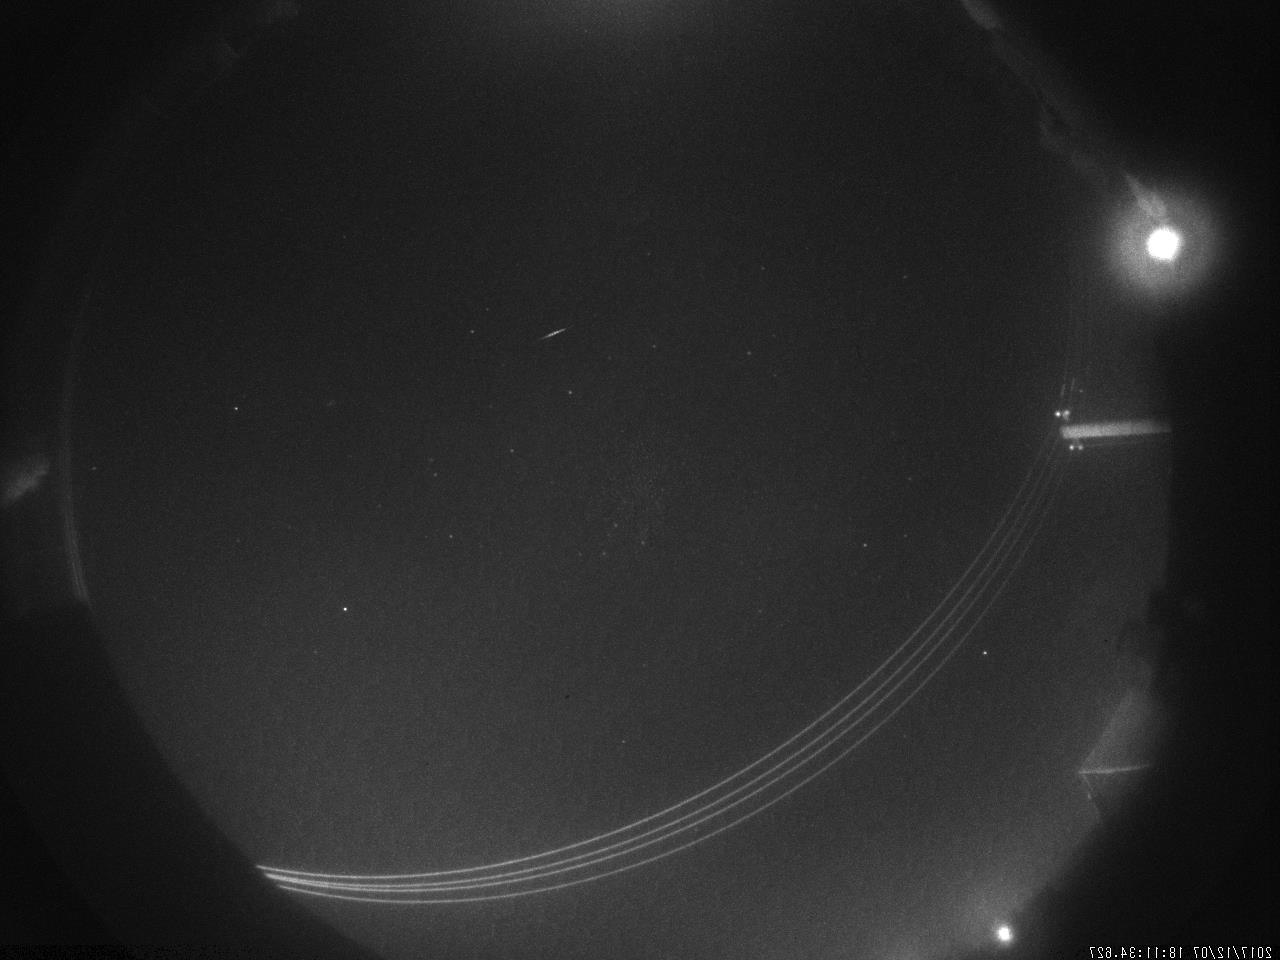meteor: (522, 317, 585, 349)
